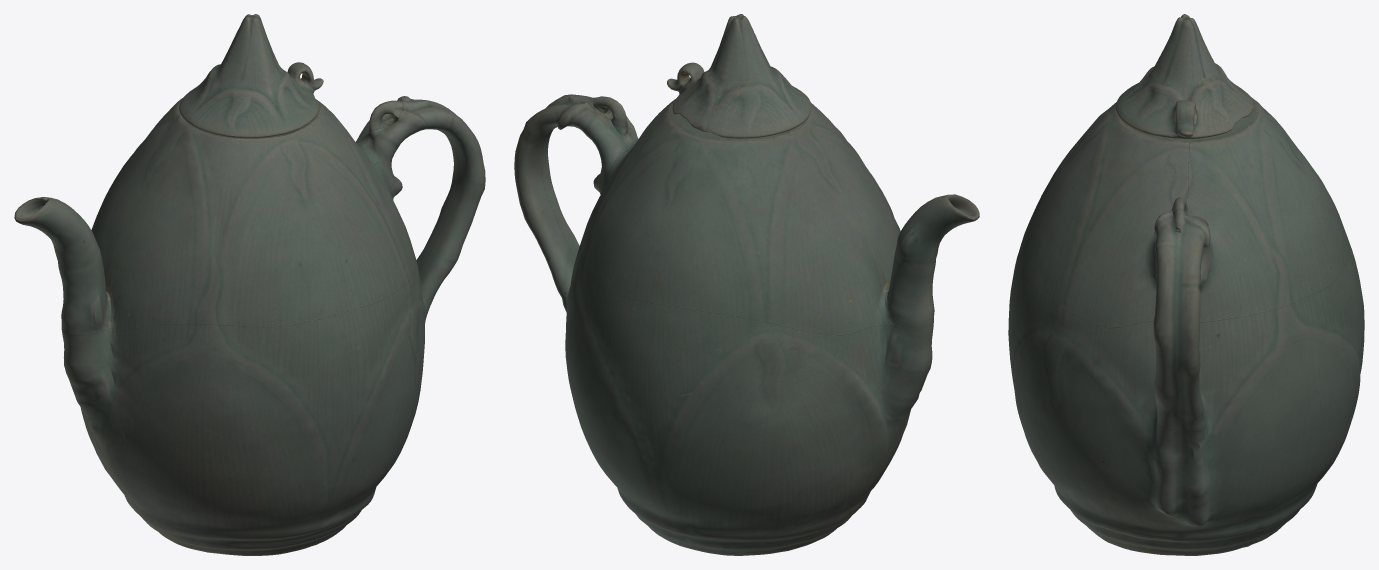
The model's file is celadon-bamboo-shoot-ewer.glb.
3 renders of one model, left to right at view 1: azimuth 30°, elevation 25°; view 2: azimuth 150°, elevation 25°; view 3: azimuth 270°, elevation 25°, orthographic.
Parts seen in each view (by area): view 1: duk004499_001_30000, duk004499_002_30000; view 2: duk004499_001_30000, duk004499_002_30000; view 3: duk004499_001_30000, duk004499_002_30000.
Boxes of the visible parts, x1,y1,x2,y2 form: duk004499_001_30000: [14, 96, 485, 555]; duk004499_002_30000: [179, 14, 323, 138]; duk004499_001_30000: [514, 94, 979, 555]; duk004499_002_30000: [667, 14, 811, 138]; duk004499_001_30000: [1008, 97, 1364, 555]; duk004499_002_30000: [1115, 14, 1254, 139].
Bounding box in the file's own units: 224 × 234 × 150.
2 materials, 2 textured.
